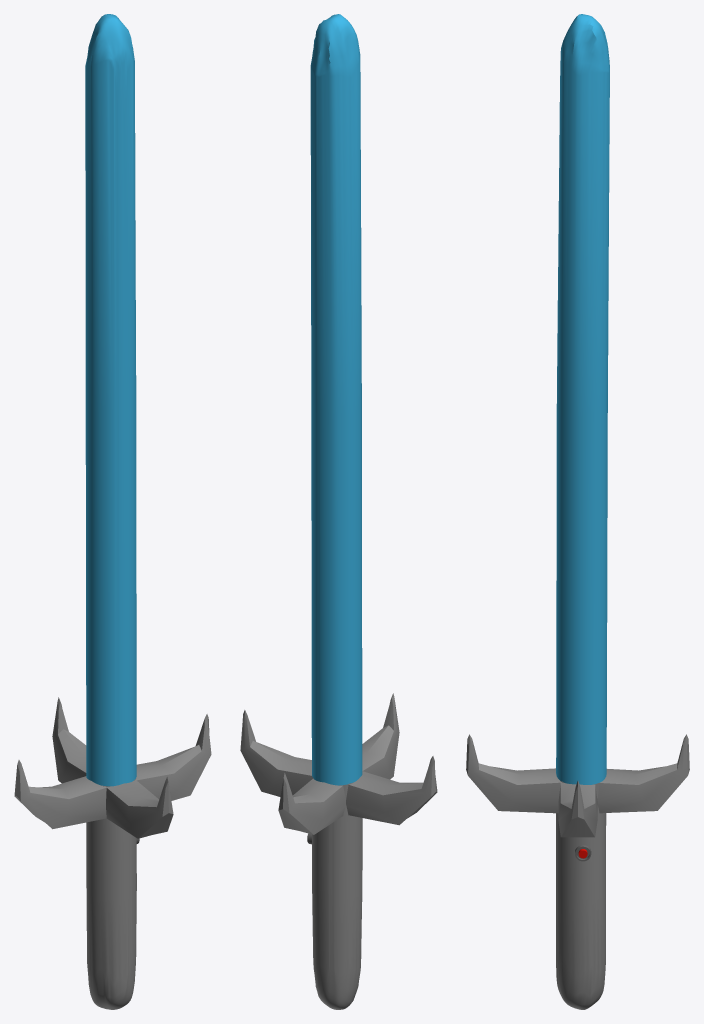
Rendered from LightSaber_Model.fbx.
3 views of the same model, side by side, from view 1: azimuth 30°, elevation 25°; view 2: azimuth 150°, elevation 25°; view 3: azimuth 270°, elevation 25° (orthographic).
Parts seen in each view (by area): view 1: head, handle; view 2: head, handle; view 3: head, handle.
Part boxes in pixels (x1,y1,x2,y2): head: (85,14,136,786); handle: (14,697,211,1009); head: (310,14,362,785); handle: (240,693,437,1009); head: (556,14,609,784); handle: (466,734,689,1009).
Bounding box in the file's own units: 34.95 × 171 × 34.95.
